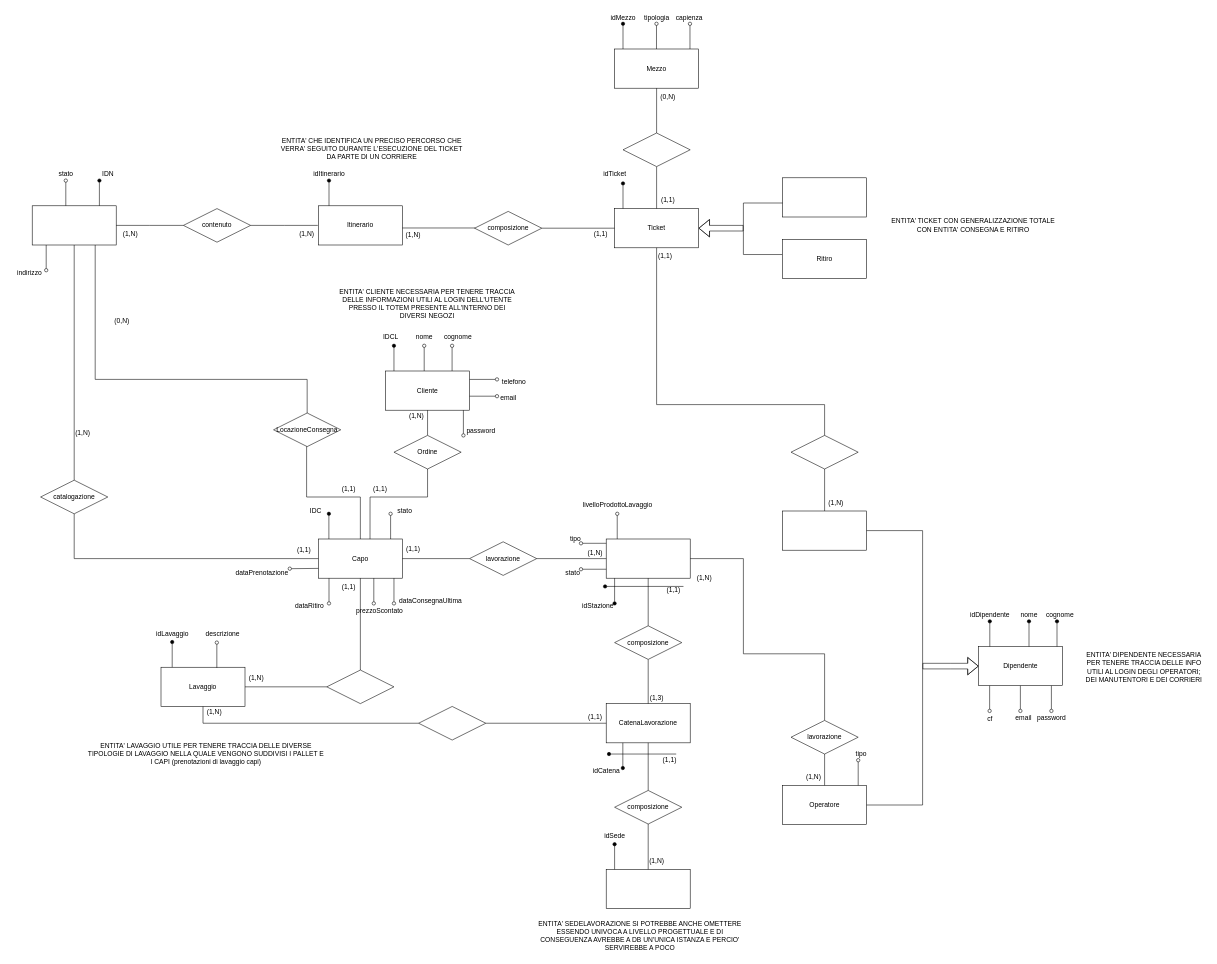
The diagram is 1217 pixels wide and 964 high, and some of its shapes have lost their labels. The shapes that lost their labels are listed below. From the top down, each one's box as (x1, y1, x2, y2) in pixels, then its label:
(622, 132, 690, 167): MT
(782, 177, 867, 217): Consegna
(32, 205, 116, 245): Negozio
(790, 435, 858, 469): esecuzione
(782, 510, 867, 550): Corriere
(606, 538, 690, 578): Stazionelavoro
(326, 669, 394, 704): CL
(418, 706, 486, 740): LC
(606, 869, 690, 909): SedeLavorazione
